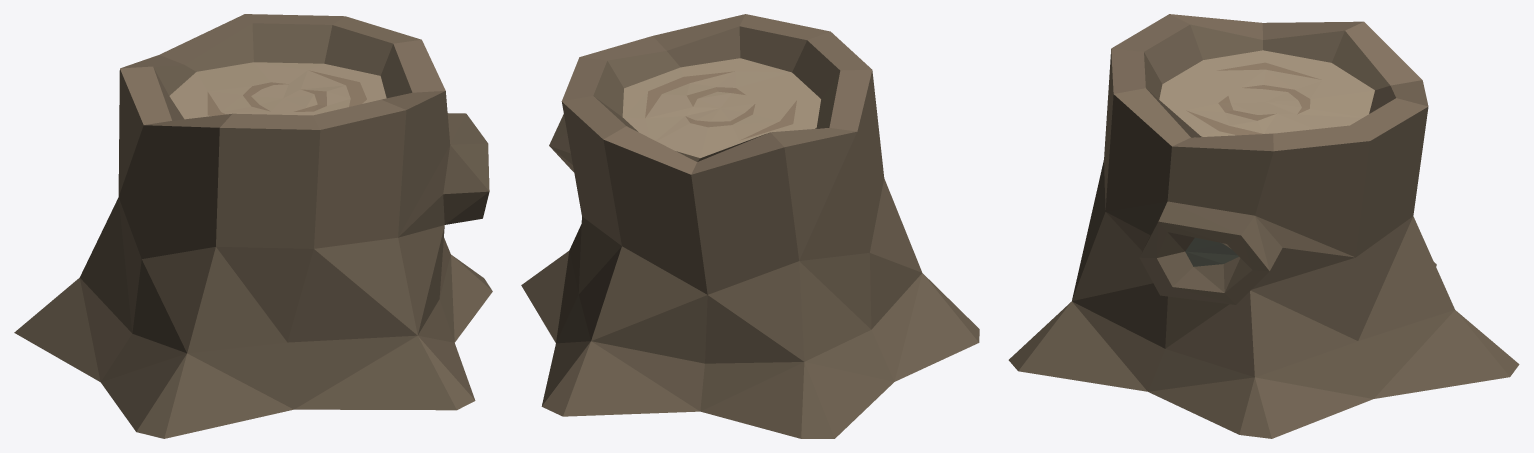
The model's file is SM_Generic_TreeStump_01.glb.
3 views of the same model, side by side, from view 1: azimuth 30°, elevation 25°; view 2: azimuth 150°, elevation 25°; view 3: azimuth 270°, elevation 25° (orthographic). The views are drawn at different scales.
Visible parts, largest first — view 1: SM_Generic_TreeStump_01; view 2: SM_Generic_TreeStump_01; view 3: SM_Generic_TreeStump_01.
Boxes of the visible parts, left/top/right/bottom form: SM_Generic_TreeStump_01: left=14, top=14, right=492, bottom=438; SM_Generic_TreeStump_01: left=521, top=14, right=979, bottom=438; SM_Generic_TreeStump_01: left=1008, top=14, right=1519, bottom=438.
Size of the model in its own units: 0.7776 by 0.4976 by 0.821.
Materials: 1 (1 with a texture image).
